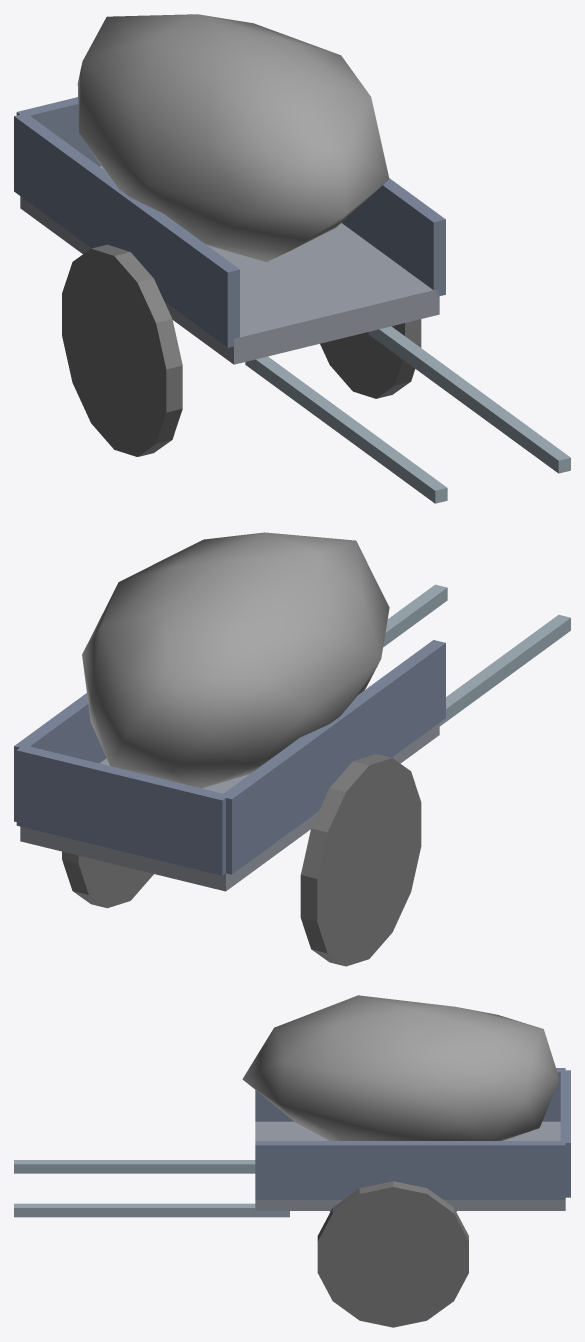
Rendered from cart.glb.
3 views of the same model, one above another, from view 1: azimuth 30°, elevation 25°; view 2: azimuth 150°, elevation 25°; view 3: azimuth 270°, elevation 25° (orthographic). The views are drawn at different scales.
Parts seen in each view (by area): view 1: cart; view 2: cart; view 3: cart.
Boxes of the visible parts, <box> form: cart: <box>14,14,570,503</box>; cart: <box>14,532,570,966</box>; cart: <box>14,995,570,1327</box>.
Bounding box in the file's own units: 1.24 × 1.75 × 3.23.
